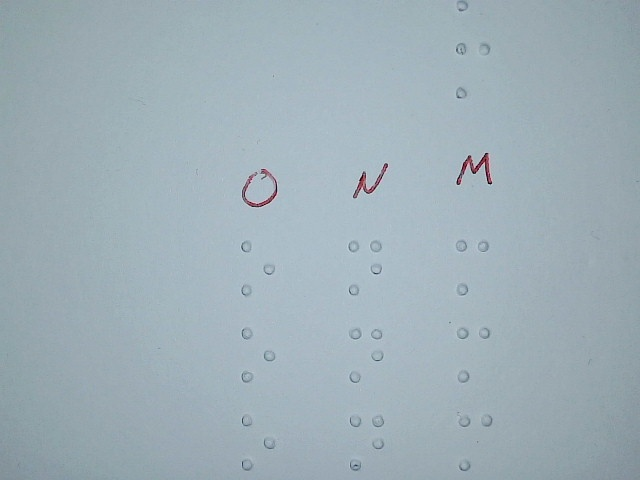M: (453, 236, 490, 296), (455, 324, 492, 384), (457, 412, 494, 472)
N: (346, 238, 383, 298), (348, 325, 385, 385), (348, 412, 385, 472)
O: (240, 238, 277, 298), (240, 325, 277, 385), (240, 412, 277, 472)
